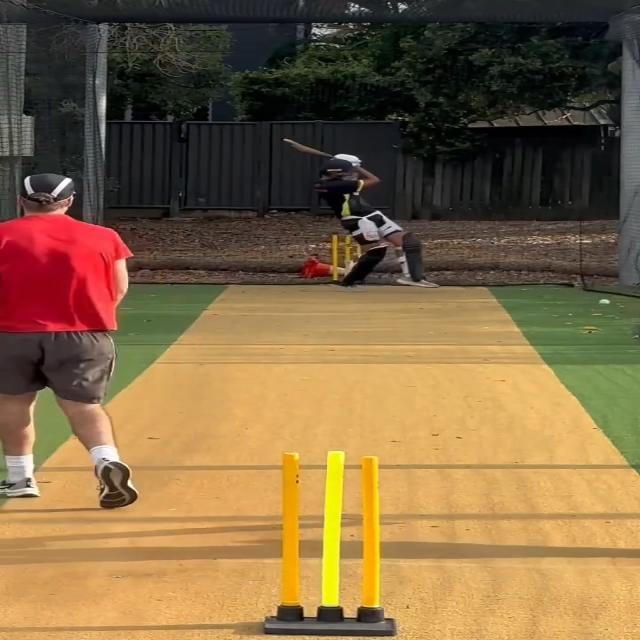ball: (598, 297, 612, 305)
stump: (264, 451, 394, 640)
